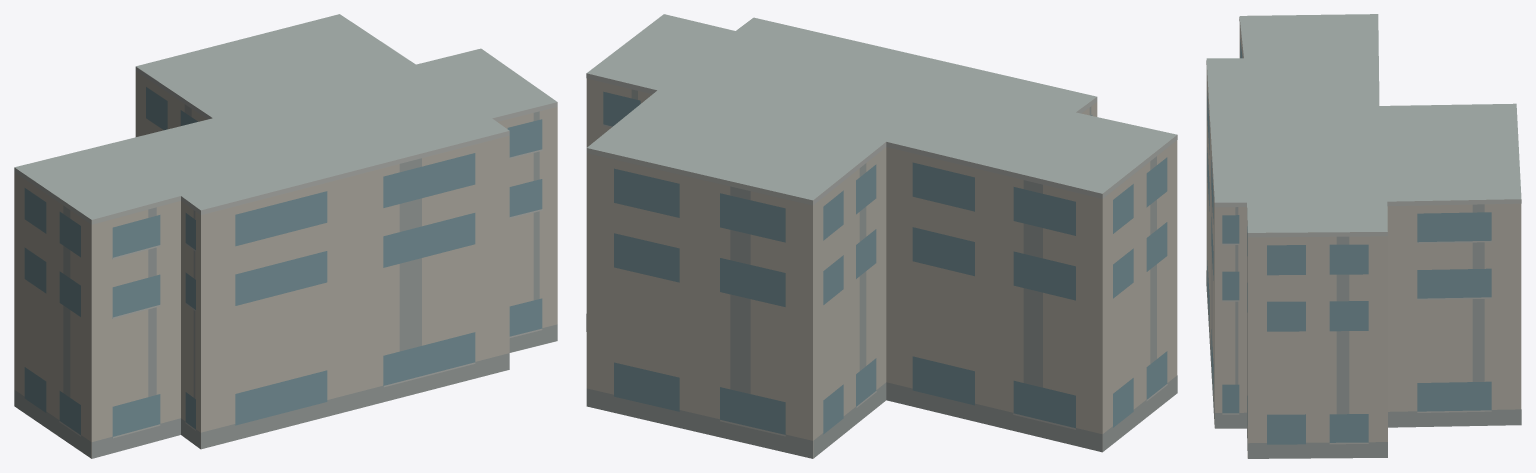
Rendered from survey-upis-32623361.glb.
3 renders of one model, left to right at view 1: azimuth 30°, elevation 25°; view 2: azimuth 150°, elevation 25°; view 3: azimuth 270°, elevation 25°, orthographic. The views are drawn at different scales.
Visible parts, largest first — view 1: survey-upis-32623361.tmp; view 2: survey-upis-32623361.tmp; view 3: survey-upis-32623361.tmp.
Boxes of the visible parts, bbox=[...] form: survey-upis-32623361.tmp: bbox=[14, 14, 557, 458]; survey-upis-32623361.tmp: bbox=[586, 14, 1177, 458]; survey-upis-32623361.tmp: bbox=[1206, 14, 1521, 458].
Size of the model in its own units: 25.36 by 12.2 by 15.42.
